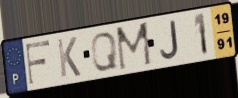1: (193, 11, 209, 59)
F: (25, 39, 52, 87)
J: (159, 19, 181, 61)
K: (55, 36, 83, 80)
M: (114, 20, 154, 73)
Q: (89, 30, 119, 73)
